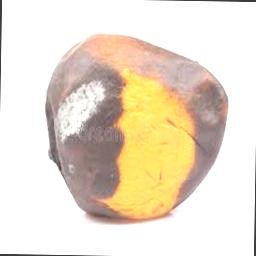Mango Rotten: (13, 28, 240, 226)
